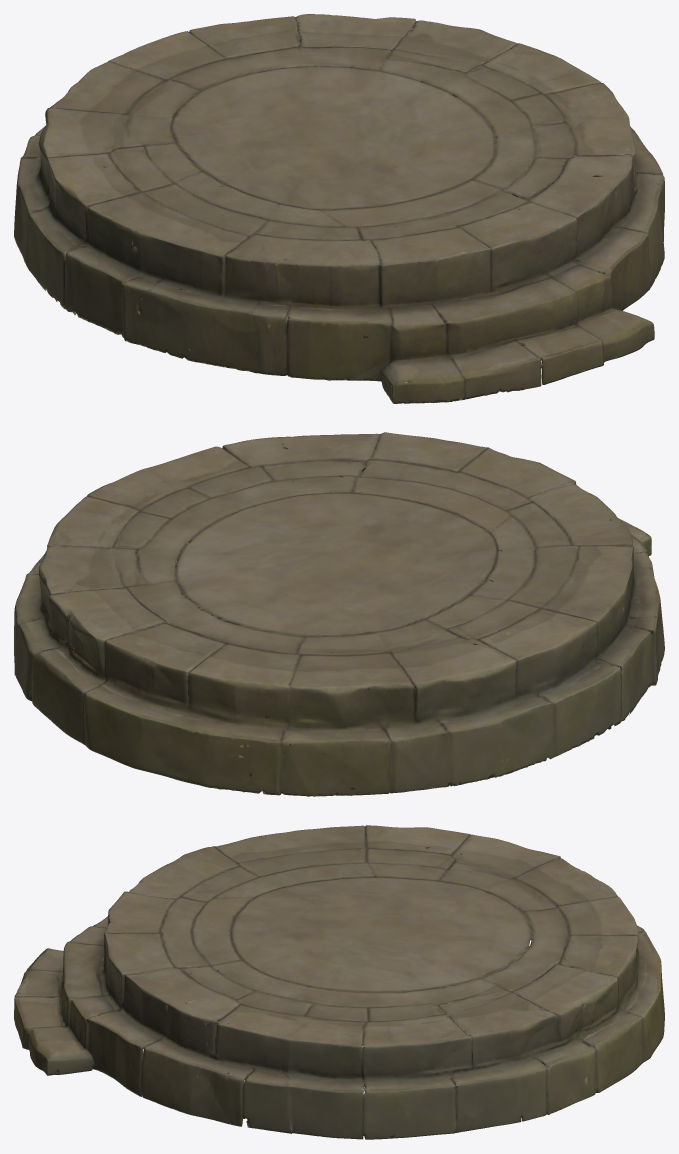
The model's file is Stone_Circle_Stage_0723123251_texture.fbx.
The picture shows the model from 3 angles, top to bottom: view 1: azimuth 30°, elevation 25°; view 2: azimuth 150°, elevation 25°; view 3: azimuth 270°, elevation 25°; orthographic projection. The views are drawn at different scales.
Parts seen in each view (by area): view 1: input; view 2: input; view 3: input.
Boxes of the visible parts, bbox=[...] form: input: bbox=[14, 14, 664, 403]; input: bbox=[14, 432, 664, 796]; input: bbox=[14, 825, 664, 1139].
Bounding box in the file's own units: 175 × 30.16 × 200.
Materials: 1 (1 with a texture image).
